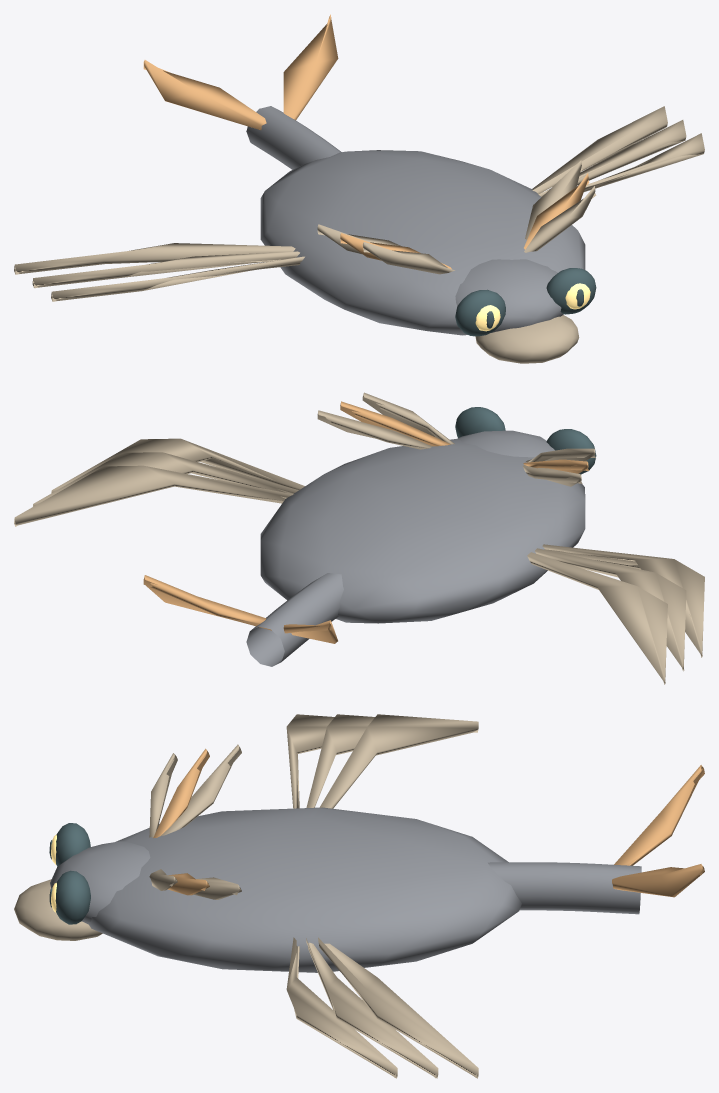
The model's file is bio_ray_18_far.glb.
3 views of the same model, one above another, from view 1: azimuth 30°, elevation 25°; view 2: azimuth 150°, elevation 25°; view 3: azimuth 270°, elevation 25° (orthographic). The views are drawn at different scales.
Visible parts, largest first — view 1: Hydrodynamic mantle, Flexible fin lobe, Caudal fin, Flexible fin lobe.003, Cranium, Layered sensory frill, Lower mandible, Tail stalk, Protected orbit, Layered sensory frill.001, Sensory lens; view 2: Hydrodynamic mantle, Flexible fin lobe, Flexible fin lobe.003, Tail stalk, Layered sensory frill, Caudal fin, Protected orbit, Layered sensory frill.001, Cranium; view 3: Hydrodynamic mantle, Flexible fin lobe.003, Flexible fin lobe, Tail stalk, Caudal fin, Cranium, Layered sensory frill, Protected orbit, Lower mandible, Layered sensory frill.001.
Part boxes in pixels (x1,y1,x2,y2): Hydrodynamic mantle: [260, 150, 585, 335]; Flexible fin lobe: [14, 243, 304, 301]; Caudal fin: [143, 14, 338, 130]; Flexible fin lobe.003: [532, 106, 704, 196]; Cranium: [455, 259, 563, 332]; Layered sensory frill: [317, 160, 596, 274]; Lower mandible: [475, 315, 579, 363]; Tail stalk: [246, 106, 341, 169]; Protected orbit: [455, 268, 596, 336]; Layered sensory frill.001: [340, 173, 589, 269]; Sensory lens: [475, 283, 590, 331]; Hydrodynamic mantle: [260, 438, 585, 623]; Flexible fin lobe: [527, 544, 704, 684]; Flexible fin lobe.003: [14, 438, 304, 526]; Tail stalk: [246, 573, 343, 666]; Layered sensory frill: [317, 392, 595, 486]; Caudal fin: [143, 575, 337, 643]; Protected orbit: [455, 407, 596, 474]; Layered sensory frill.001: [340, 401, 589, 473]; Cranium: [458, 430, 554, 457]; Hydrodynamic mantle: [87, 807, 521, 972]; Flexible fin lobe.003: [286, 937, 478, 1078]; Flexible fin lobe: [286, 714, 478, 808]; Tail stalk: [488, 862, 641, 914]; Caudal fin: [612, 765, 704, 897]; Cranium: [50, 841, 150, 924]; Layered sensory frill: [149, 744, 241, 899]; Protected orbit: [49, 823, 90, 924]; Lower mandible: [14, 879, 102, 940]; Layered sensory frill.001: [153, 748, 209, 895].
Bounding box in the file's own units: 4.06 × 0.6648 × 3.42.
